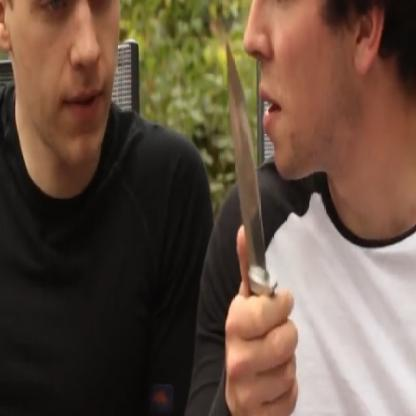knife: (210, 17, 306, 415)
